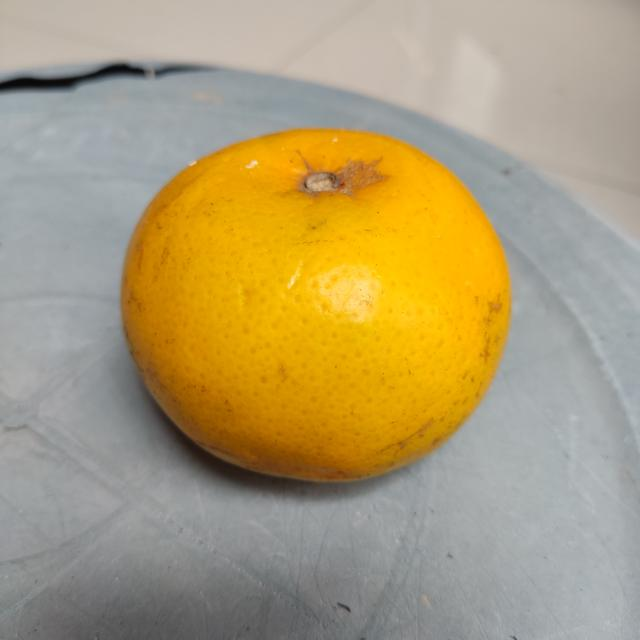orange: (120, 126, 512, 483)
